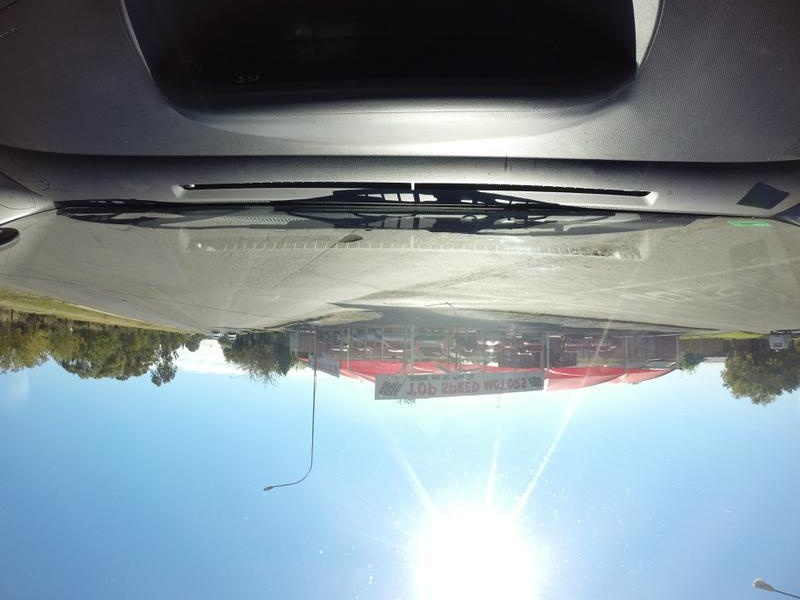pothole: (583, 247, 620, 261), (339, 233, 363, 249)
